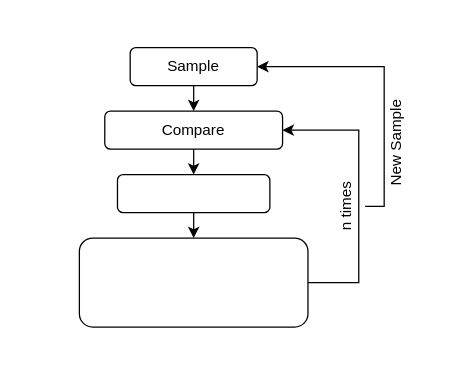
The diagram is 450 pixels wide and 373 high, and some of its shapes have lost their labels. The shapes that lost their labels are listed below. From the top down, each one's centre as x and y in pixels, then its label:
point 193,193: Store in FF
point 193,282: If Op > On switch +ve cap->gnd If Op < On switch -ve cap->gnd Reset Latch
